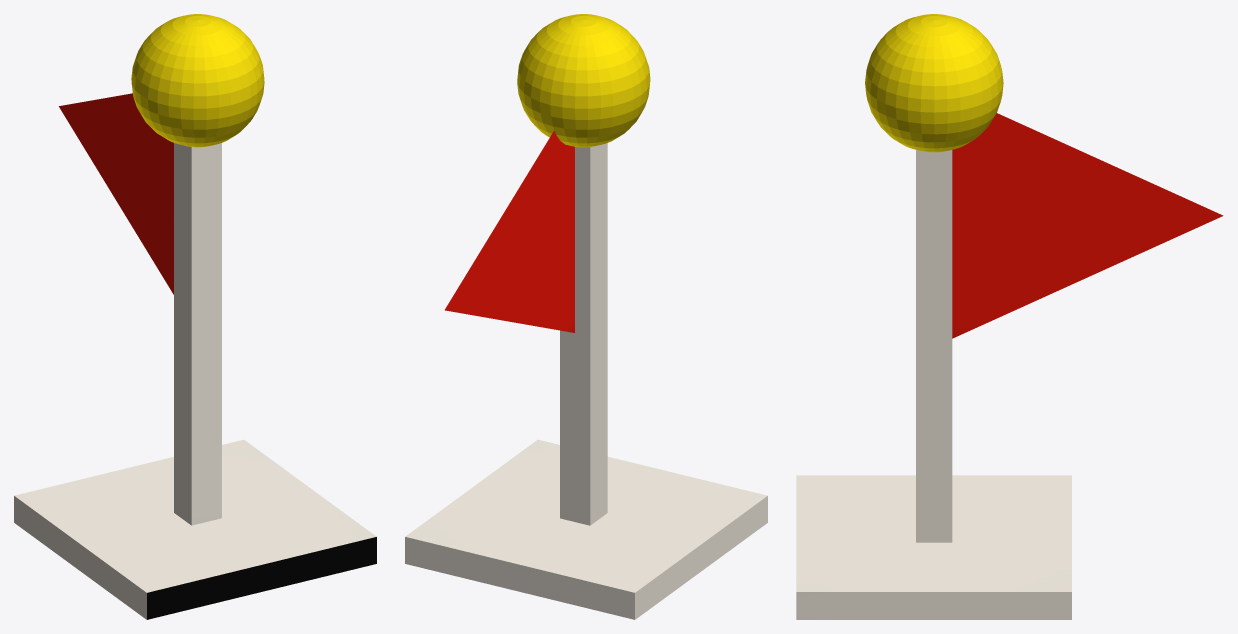
File: Goal.gltf
3 views of the same model, side by side, from view 1: azimuth 30°, elevation 25°; view 2: azimuth 150°, elevation 25°; view 3: azimuth 270°, elevation 25° (orthographic). The views are drawn at different scales.
Visible parts, largest first — view 1: 土台; view 2: 土台; view 3: 土台.
Boxes of the visible parts, <box> form: 土台: <box>14,14,376,619</box>; 土台: <box>405,14,767,619</box>; 土台: <box>796,14,1223,619</box>.
Size of the model in its own units: 0.9566 by 2.08 by 1.48.
Materials: 1 (1 with a texture image).
